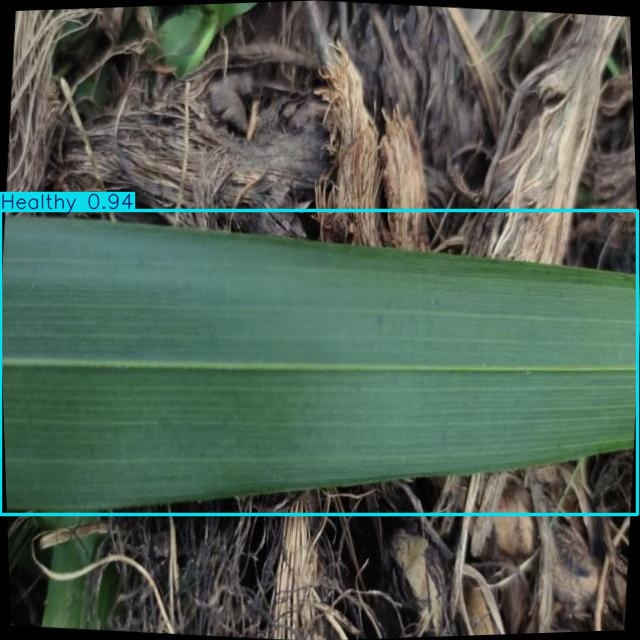Healthy: (1, 211, 637, 515)
